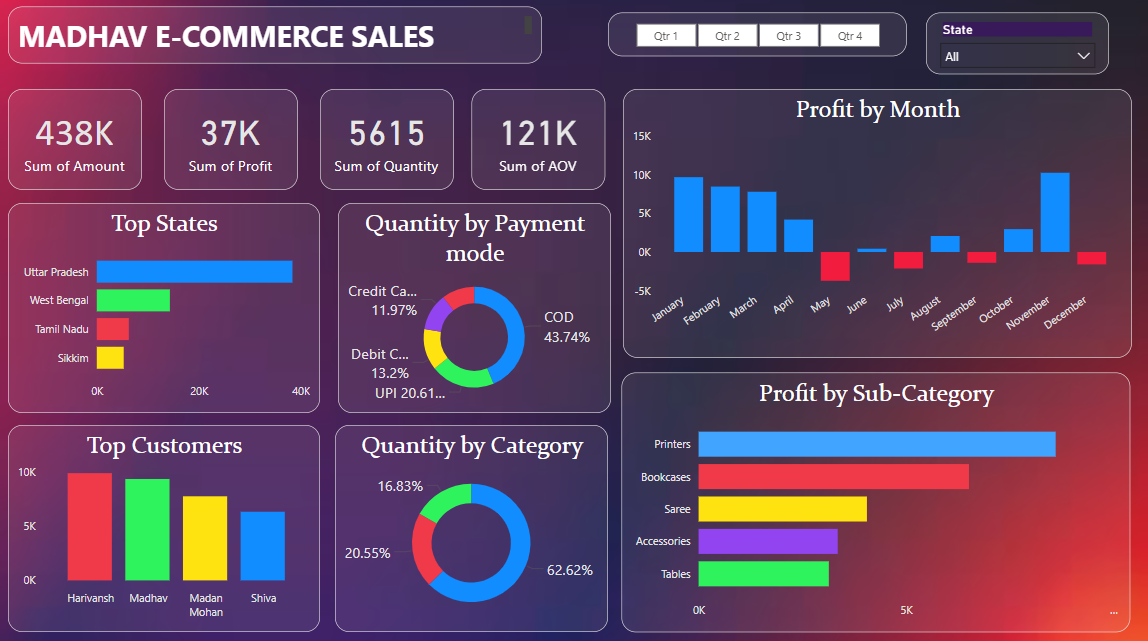

The dashboard page shown, as its layout file describes it:
{"tool":"powerbi","page":{"name":"Page 1","canvas":[1280,720],"ordinal":0},"visuals":[{"type":"textbox","box":[10,8.3,593.3,63.3],"z":0},{"type":"columnChart","title":" Profit by Month","fields":{"Category":["Orders.Order Date.Variation.Date Hierarchy.Month"],"Y":["Details.Profit"]},"box":[693.3,100,565,298.3],"z":1000},{"type":"barChart","title":"Profit by Sub-Category","fields":{"Category":["Details.Sub-Category"],"Y":["Details.Profit"]},"box":[691.7,415,565,288.3],"z":2000},{"type":"donutChart","title":"Quantity by Category","fields":{"Y":["Details.Quantity"],"Category":["Details.Category"]},"box":[373.3,473.3,303.3,230],"z":3000},{"type":"donutChart","title":"Quantity by Payment mode","fields":{"Y":["Details.Quantity"],"Category":["Details.PaymentMode"]},"box":[376.7,226.7,303.3,233.3],"z":4000},{"type":"barChart","title":"Top States","fields":{"Y":["Details.Amount"],"Category":["Orders.State","Orders.CustomerName"]},"box":[10,226.7,346.7,233.3],"z":5000},{"type":"columnChart","title":"Top Customers","fields":{"Category":["Orders.CustomerName"],"Y":["Details.Amount"]},"box":[10,473.3,346.7,230],"z":6000},{"type":"card","fields":{"Values":["Details.Amount"]},"box":[10,100,148.3,111.7],"z":7000},{"type":"card","fields":{"Values":["Details.Profit"]},"box":[183.3,100,148.3,111.7],"z":8000},{"type":"card","fields":{"Values":["Details.Quantity"]},"box":[356.7,100,148.3,111.7],"z":9000},{"type":"card","fields":{"Values":["Details.AOV"]},"box":[525,100,148.3,111.7],"z":10000},{"type":"slicer","fields":{"Values":["Orders.Order Date.Variation.Date Hierarchy.Quarter"]},"box":[676.7,15,331.7,48.3],"z":11000},{"type":"slicer","fields":{"Values":["Orders.State"]},"box":[1030,15,203.3,68.3],"z":11001}]}

Visuals, with their boxes in screenshot pixels (x1, y1, x2, y2), scaled from the page's 1280x720 canvas onto the 1148x641 screenshot:
textbox: Rect(9, 7, 541, 64)
" Profit by Month" columnChart: Rect(622, 89, 1129, 355)
"Profit by Sub-Category" barChart: Rect(620, 369, 1127, 626)
"Quantity by Category" donutChart: Rect(335, 421, 607, 626)
"Quantity by Payment mode" donutChart: Rect(338, 202, 610, 410)
"Top States" barChart: Rect(9, 202, 320, 410)
"Top Customers" columnChart: Rect(9, 421, 320, 626)
card - Details.Amount: Rect(9, 89, 142, 188)
card - Details.Profit: Rect(164, 89, 297, 188)
card - Details.Quantity: Rect(320, 89, 453, 188)
card - Details.AOV: Rect(471, 89, 604, 188)
slicer - Orders.Order Date.Variation.Date Hierarchy.Quarter: Rect(607, 13, 904, 56)
slicer - Orders.State: Rect(924, 13, 1106, 74)
